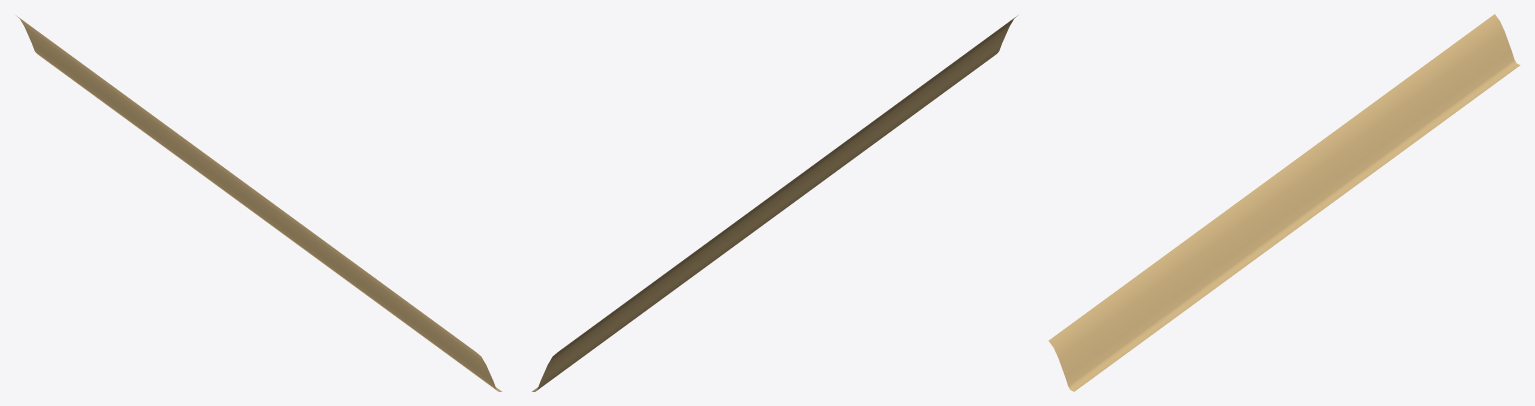
The model's file is P_Pente_sable.fbx.
3 views of the same model, side by side, from view 1: azimuth 30°, elevation 25°; view 2: azimuth 150°, elevation 25°; view 3: azimuth 330°, elevation 25° (orthographic). The views are drawn at different scales.
Visible parts, largest first — view 1: P_Pente_sable; view 2: P_Pente_sable; view 3: P_Pente_sable.
Boxes of the visible parts, bbox=[...] form: P_Pente_sable: bbox=[16, 15, 501, 391]; P_Pente_sable: bbox=[532, 15, 1017, 391]; P_Pente_sable: bbox=[1048, 14, 1520, 391].
Bounding box in the file's own units: 6 × 10 × 180.
